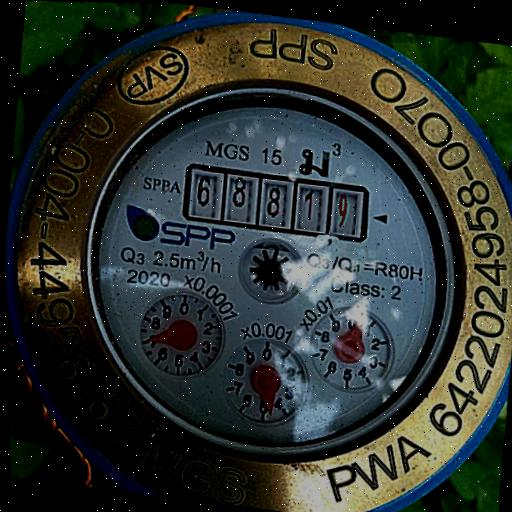1: (298, 190, 322, 232)
6: (192, 175, 218, 218)
8: (262, 184, 287, 228), (226, 179, 251, 222)
9: (333, 193, 359, 235)
border_water_meter_number: (181, 163, 372, 244)
